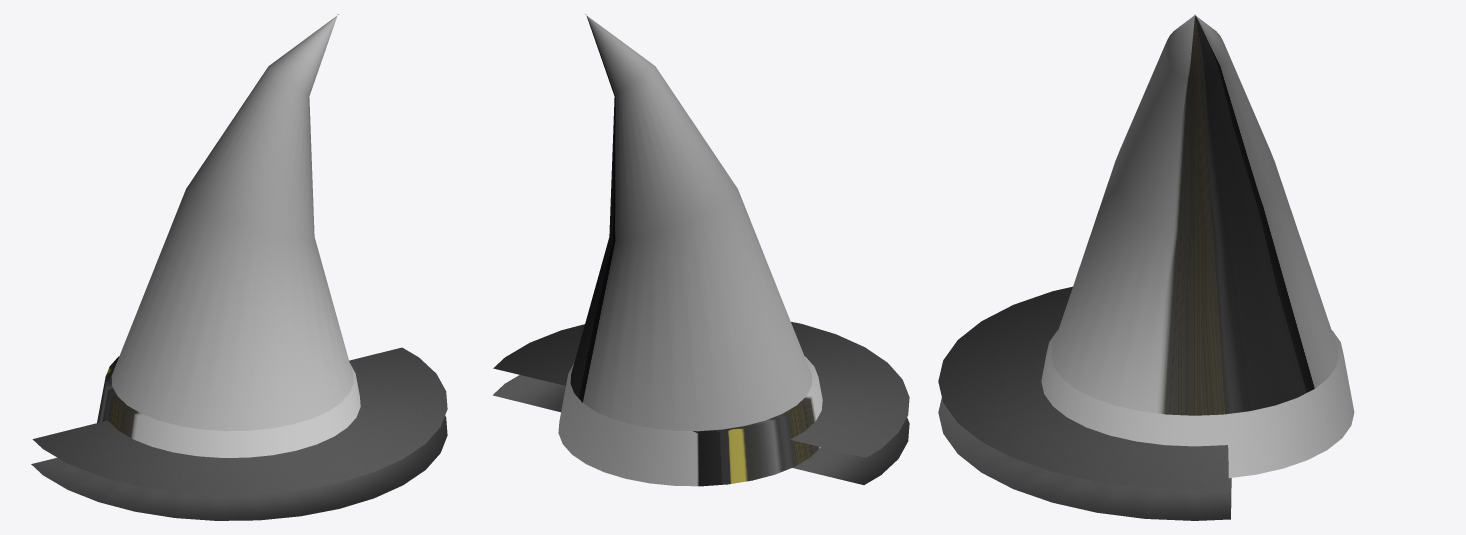
The model's file is hat.fbx.
The picture shows the model from 3 angles, left to right: view 1: azimuth 30°, elevation 25°; view 2: azimuth 150°, elevation 25°; view 3: azimuth 270°, elevation 25°; orthographic projection. The views are drawn at different scales.
Visible parts, largest first — view 1: Cylinder; view 2: Cylinder; view 3: Cylinder.
Part boxes in pixels (<box>): Cylinder: <box>31,14,447,520</box>; Cylinder: <box>493,14,909,486</box>; Cylinder: <box>938,14,1354,520</box>.
Size of the model in its own units: 20 by 19.79 by 20.
Materials: 1 (1 with a texture image).
